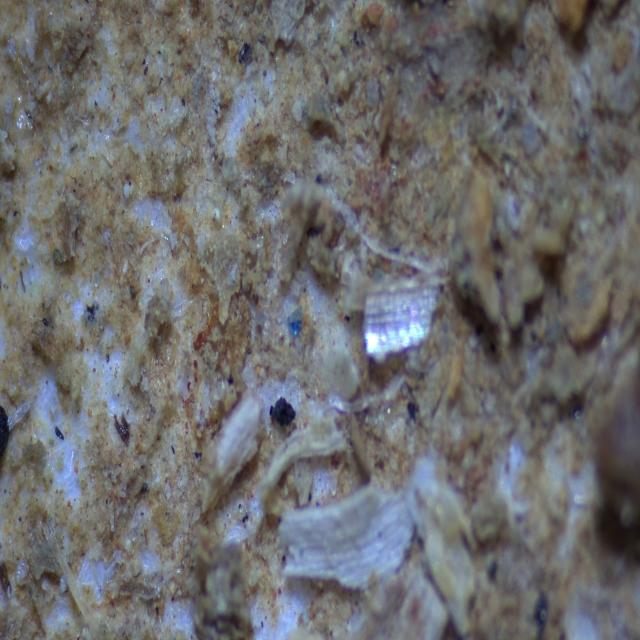microplastic: (283, 305, 308, 342)
